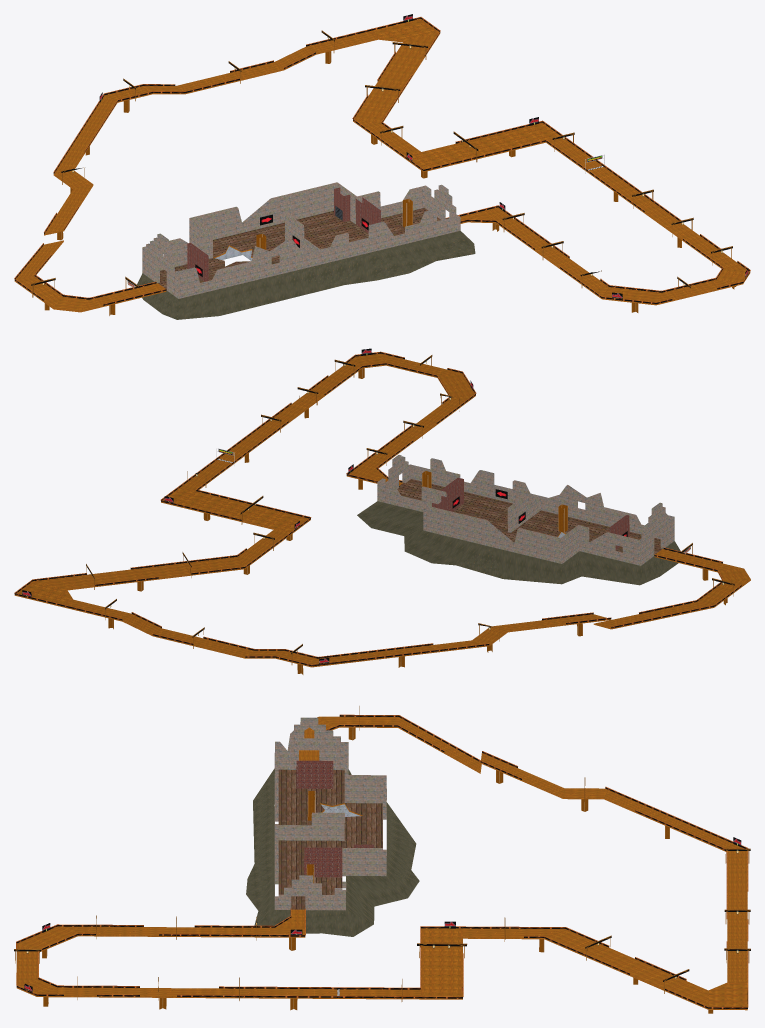
The picture shows the model from 3 angles, top to bottom: view 1: azimuth 30°, elevation 25°; view 2: azimuth 150°, elevation 25°; view 3: azimuth 270°, elevation 25°; orthographic projection. The views are drawn at different scales.
Parts seen in each view (by area): view 1: polygon127.001, polygon128.001, polygon145.002, polygon129.001, polygon156.001, polygon159.002, polygon0.034, polygon131.001; view 2: polygon127.001, polygon128.001, polygon145.002, polygon129.001, polygon156.001, polygon131.001, polygon0.034, polygon159.002; view 3: polygon127.001, polygon128.001, polygon145.002, polygon156.001, polygon129.001, polygon159.002, polygon131.001, polygon0.034.
Boxes of the visible parts, bbox=[...] form: polygon127.001: bbox=[14, 19, 750, 312]; polygon128.001: bbox=[142, 182, 460, 298]; polygon145.002: bbox=[137, 230, 475, 319]; polygon129.001: bbox=[14, 17, 750, 305]; polygon156.001: bbox=[158, 208, 440, 288]; polygon159.002: bbox=[187, 187, 380, 281]; polygon0.034: bbox=[31, 30, 732, 297]; polygon131.001: bbox=[44, 51, 736, 315]; polygon127.001: bbox=[14, 353, 750, 667]; polygon128.001: bbox=[377, 455, 674, 565]; polygon145.002: bbox=[357, 501, 680, 585]; polygon129.001: bbox=[14, 351, 741, 666]; polygon156.001: bbox=[397, 479, 661, 554]; polygon131.001: bbox=[108, 368, 727, 674]; polygon0.034: bbox=[86, 355, 734, 664]; polygon159.002: bbox=[432, 477, 629, 549]; polygon127.001: bbox=[16, 716, 747, 1010]; polygon128.001: bbox=[274, 717, 386, 910]; polygon145.002: bbox=[246, 768, 419, 936]; polygon156.001: bbox=[278, 769, 382, 909]; polygon129.001: bbox=[16, 714, 748, 1008]; polygon159.002: bbox=[296, 760, 374, 877]; polygon131.001: bbox=[42, 727, 713, 1013]; polygon0.034: bbox=[14, 706, 750, 1001].
Size of what is drawn, in the model's own units: 75469 by 8688 by 81071.
Materials: 17 (17 with a texture image).
